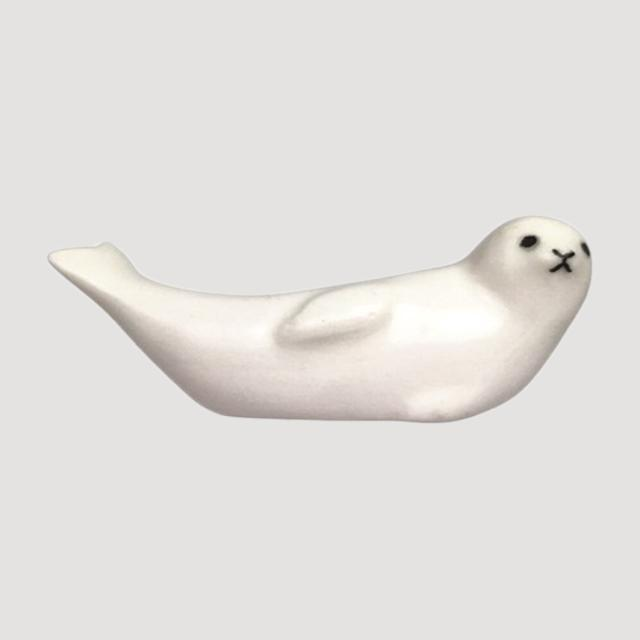WaterDog: (38, 215, 604, 425)
